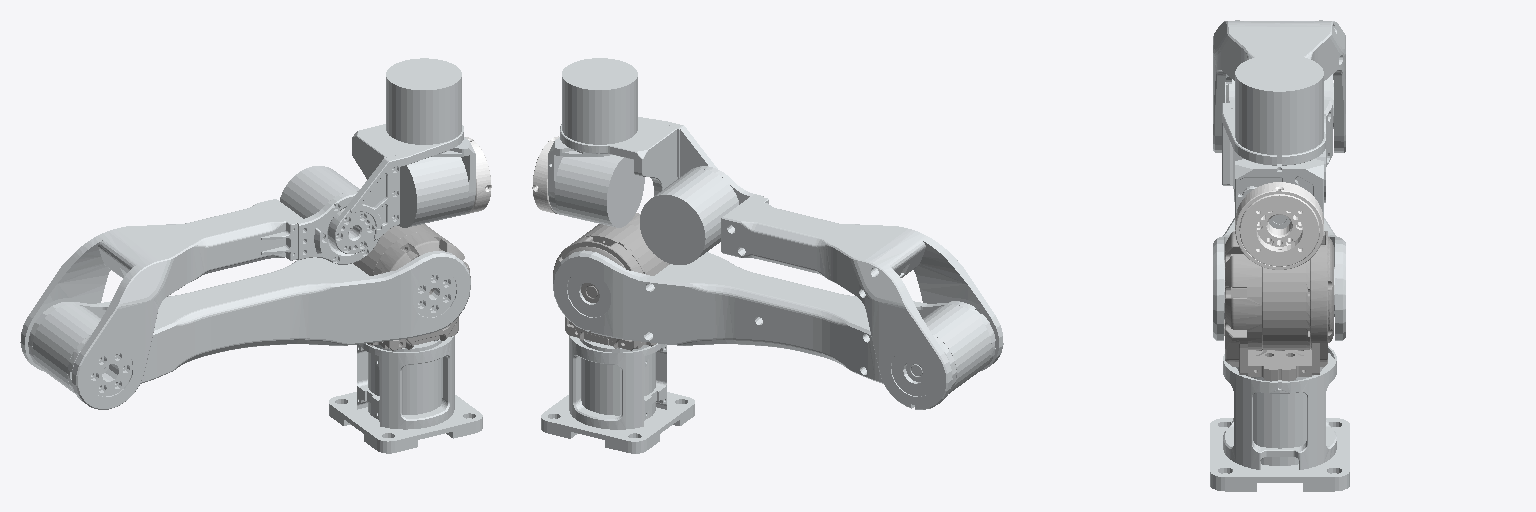
The robot description file, URDF, robot "y1":
<?xml version="1.0" encoding="utf-8"?>
<!-- Created with Liquid Technologies Online Tools 1.0 (https://www.liquid-technologies.com) -->
<!-- This URDF was automatically created by SolidWorks to URDF Exporter! Originally created by [author] ([email redacted]) 
     Commit Version: 1.6.0-4-g7f85cfe  Build Version: 1.6.7995.38578
     For more information, please see http://wiki.ros.org/sw_urdf_exporter -->
<robot name="y1">
  <link name="world" />
  <joint name="fixed_base_joint" type="fixed">
    <parent link="world" />
    <child link="base_link" />
  </joint>
  <link name="base_link">
    <inertial>
      <origin xyz="-0.000029 -0.000001 0.033965" rpy="0 0 0" />
      <mass value="0.632" />
      <inertia ixx="0.000532" ixy="0.000000" ixz="0.000001" iyy="0.000532" iyz="0.000000" izz="0.000493" />
    </inertial>
    <visual>
      <origin xyz="0 0 0" rpy="0 0 0" />
      <geometry>
        <mesh filename="package://y1_description/meshes/base_link.STL" />
      </geometry>
      <material name="">
        <color rgba="0.89804 0.91765 0.92941 1" />
      </material>
    </visual>
    <collision>
      <origin xyz="0 0 0" rpy="0 0 0" />
      <geometry>
        <mesh filename="package://y1_description/meshes/base_link.STL" />
      </geometry>
    </collision>
  </link>
  <link name="Link1">
    <inertial>
      <origin xyz="0.000693 -0.001221 0.050197" rpy="0 0 0" />
      <mass value="0.893000" />
      <inertia ixx="0.000738" ixy="0.000001" ixz="-0.000001" iyy="0.000755" iyz="-0.000002" izz="0.000606" />
    </inertial>
    <visual>
      <origin xyz="0 0 0" rpy="0 0 0" />
      <geometry>
        <mesh filename="package://y1_description/meshes/Link1.STL" />
      </geometry>
      <material name="">
        <color rgba="0.75294 0.75294 0.75294 1" />
      </material>
    </visual>
    <collision>
      <origin xyz="0 0 0" rpy="0 0 0" />
      <geometry>
        <mesh filename="package://y1_description/meshes/Link1.STL" />
      </geometry>
    </collision>
  </link>
  <joint name="JOINT1" type="revolute">
    <origin xyz="0 0 0.06675" rpy="0 0 0" />
    <parent link="base_link" />
    <child link="Link1" />
    <axis xyz="0 0 1" />
    <limit lower="-3.0" upper="3.0" effort="30" velocity="10" />
  </joint>
  <link name="Link2">
    <inertial>
      <origin xyz="-0.185969 -0.001045 -0.000524" rpy="0 0 0" />
      <mass value="1.028000" />
      <inertia ixx="0.000769" ixy="0.000142" ixz="-0.000070" iyy="0.011712" iyz="0.000002" izz="0.011441" />
    </inertial>
    <visual>
      <origin xyz="0 0 0" rpy="0 0 0" />
      <geometry>
        <mesh filename="package://y1_description/meshes/Link2.STL" />
      </geometry>
      <material name="">
        <color rgba="0.898039215686275 0.917647058823529 0.929411764705882 1" />
      </material>
    </visual>
    <collision>
      <origin xyz="0 0 0" rpy="0 0 0" />
      <geometry>
        <mesh filename="package://y1_description/meshes/Link2.STL" />
      </geometry>
    </collision>
  </link>
  <joint name="JOINT2" type="revolute">
    <origin xyz="0.00075 0 0.055" rpy="1.5708 0 0" />
    <parent link="Link1" />
    <child link="Link2" />
    <axis xyz="0 0 1" />
    <limit lower="-3.5" upper="0.2" effort="120" velocity="10" />
  </joint>
  <link name="Link3">
    <inertial>
      <origin xyz="0.132810 0.052976 -0.000025" rpy="0 0 0" />
      <mass value="0.838" />
      <inertia ixx="0.000976" ixy="-0.001080" ixz="0.000036" iyy="0.007005" iyz="0.000000" izz="0.007063" />
    </inertial>
    <visual>
      <origin xyz="0 0 0" rpy="0 0 0" />
      <geometry>
        <mesh filename="package://y1_description/meshes/Link3.STL" />
      </geometry>
      <material name="">
        <color rgba="0.89804 0.91765 0.92941 1" />
      </material>
    </visual>
    <collision>
      <origin xyz="0 0 0" rpy="0 0 0" />
      <geometry>
        <mesh filename="package://y1_description/meshes/Link3.STL" />
      </geometry>
    </collision>
  </link>
  <joint name="JOINT3" type="revolute">
    <origin xyz="-0.28 0 0" rpy="0 0 0" />
    <parent link="Link2" />
    <child link="Link3" />
    <axis xyz="0 0 1" />
    <limit lower="-0.2" upper="3.25" effort="30" velocity="10" />
  </joint>
  <link name="Link4">
    <inertial>
      <origin xyz="0.067326 0.059806 0.005043" rpy="0 0 0" />
      <mass value="0.444000" />
      <inertia ixx="0.000428" ixy="-0.000241" ixz="0.000099" iyy="0.000477" iyz="0.000091" izz="0.000648" />
    </inertial>
    <visual>
      <origin xyz="0 0 0" rpy="0 0 0" />
      <geometry>
        <mesh filename="package://y1_description/meshes/Link4.STL" />
      </geometry>
      <material name="">
        <color rgba="0.898039215686275 0.917647058823529 0.929411764705882 1" />
      </material>
    </visual>
    <collision>
      <origin xyz="0 0 0" rpy="0 0 0" />
      <geometry>
        <mesh filename="package://y1_description/meshes/Link4.STL" />
      </geometry>
    </collision>
  </link>
  <joint name="JOINT4" type="revolute">
    <origin xyz="0.215 0.063 0" rpy="0 0 0" />
    <parent link="Link3" />
    <child link="Link4" />
    <axis xyz="0 0 1" />
    <limit lower="-2.35" upper="1.6" effort="30" velocity="10" />
  </joint>
  <link name="Link5">
    <inertial>
      <origin xyz="0.002596 0.000018 0.039895" rpy="0 0 0" />
      <mass value="0.363000" />
      <inertia ixx="0.000189" ixy="0.000000" ixz="0.000008" iyy="0.000186" iyz="-0.000001" izz="0.000148" />
    </inertial>
    <visual>
      <origin xyz="0 0 0" rpy="0 0 0" />
      <geometry>
        <mesh filename="package://y1_description/meshes/Link5.STL" />
      </geometry>
      <material name="">
        <color rgba="0.89804 0.91765 0.92941 1" />
      </material>
    </visual>
    <collision>
      <origin xyz="0 0 0" rpy="0 0 0" />
      <geometry>
        <mesh filename="package://y1_description/meshes/Link5.STL" />
      </geometry>
    </collision>
  </link>
  <joint name="JOINT5" type="revolute">
    <origin xyz="0.080817 0.05072 0.00025" rpy="1.5708 0 -0.015918" />
    <parent link="Link4" />
    <child link="Link5" />
    <axis xyz="0 0 1" />
    <limit lower="-1.6" upper="1.6" effort="20" velocity="30" />
  </joint>
  <link name="Link6">
    <inertial>
      <origin xyz="0.031920 -0.000193 0.043758" rpy="0 0 0" />
      <mass value="0.150000" />
      <inertia ixx="0.000058" ixy="0.000000" ixz="0.000000" iyy="0.000027" iyz="0.000000" izz="0.000027" />
    </inertial>
    <visual>
      <origin xyz="0 0 0" rpy="0 0 0" />
      <geometry>
        <mesh filename="package://y1_description/meshes_y1/Link6.STL" />
      </geometry>
      <material name="">
        <color rgba="1 1 1 1" />
      </material>
    </visual>
    <collision>
      <origin xyz="0 0 0" rpy="0 0 0" />
      <geometry>
        <mesh filename="package://y1_description/meshes_y1/Link6.STL" />
      </geometry>
    </collision>
  </link>
  <joint name="JOINT6" type="revolute">
    <origin xyz="0.0235 0 0.0440000000000001" rpy="-3.14159265330655 0 0" />
    <parent link="Link5" />
    <child link="Link6" />
    <axis xyz="1 0 0" />
    <limit lower="-2.75" upper="2.75" effort="20" velocity="30" />
  </joint>
</robot>

--- Render facts (derived) ---
The picture shows the robot from 3 angles, left to right: view 1: azimuth 30°, elevation 25°; view 2: azimuth 150°, elevation 25°; view 3: azimuth 270°, elevation 25°; orthographic projection.
Robot: y1 — 8 links, 7 joints (6 revolute, 1 fixed); root link world; default pose: all joints at 0.
Visible links, largest first — view 1: Link2, Link3, Link4, base_link, Link5, Link1, Link6; view 2: Link3, Link2, base_link, Link4, Link5, Link1, Link6; view 3: base_link, Link1, Link4, Link3, Link6, Link2, Link5.
Link boxes in pixels (left/top/right/bottom): Link2: left=28, top=251, right=470, bottom=392; Link3: left=20, top=166, right=379, bottom=409; Link4: left=328, top=58, right=463, bottom=253; base_link: left=329, top=336, right=482, bottom=453; Link5: left=398, top=137, right=475, bottom=227; Link1: left=353, top=224, right=470, bottom=350; Link6: left=465, top=137, right=491, bottom=213; Link3: left=640, top=166, right=1003, bottom=409; Link2: left=553, top=250, right=995, bottom=393; base_link: left=541, top=336, right=694, bottom=453; Link4: left=560, top=58, right=717, bottom=195; Link5: left=548, top=137, right=644, bottom=227; Link1: left=553, top=213, right=669, bottom=350; Link6: left=532, top=136, right=558, bottom=213; base_link: left=1210, top=346, right=1349, bottom=491; Link1: left=1224, top=231, right=1333, bottom=380; Link4: left=1222, top=54, right=1325, bottom=188; Link3: left=1213, top=20, right=1345, bottom=202; Link6: left=1235, top=182, right=1323, bottom=269; Link2: left=1213, top=74, right=1345, bottom=340; Link5: left=1235, top=159, right=1323, bottom=228.
Size in the robot's own frame: 0.368 by 0.09 by 0.2828 metres.
7 mesh visuals loaded from 7 distinct referenced files (7 binary STL).
